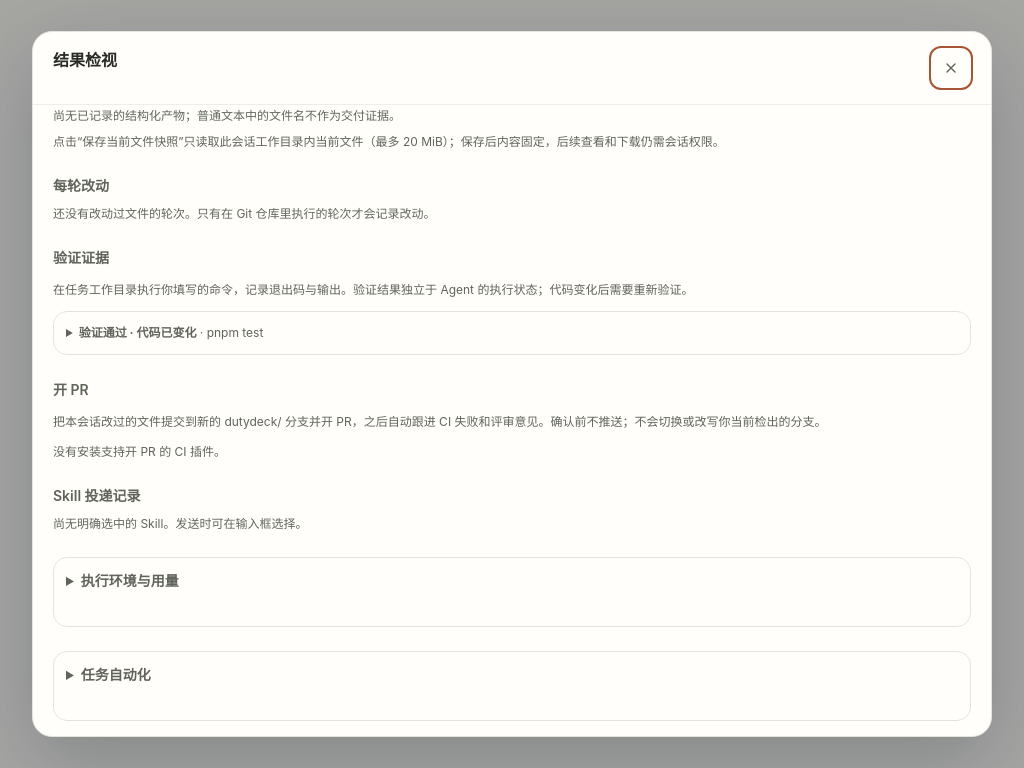
Test case: work item delivery panel › displays blockers when workspace cannot be safely cleaned
This screenshot has width=1024, height=768.
(page scrolled)
Click the heading "执行环境与用量" at (130, 580), box x1=81 y1=572 x2=179 y2=589
(page scrolled)
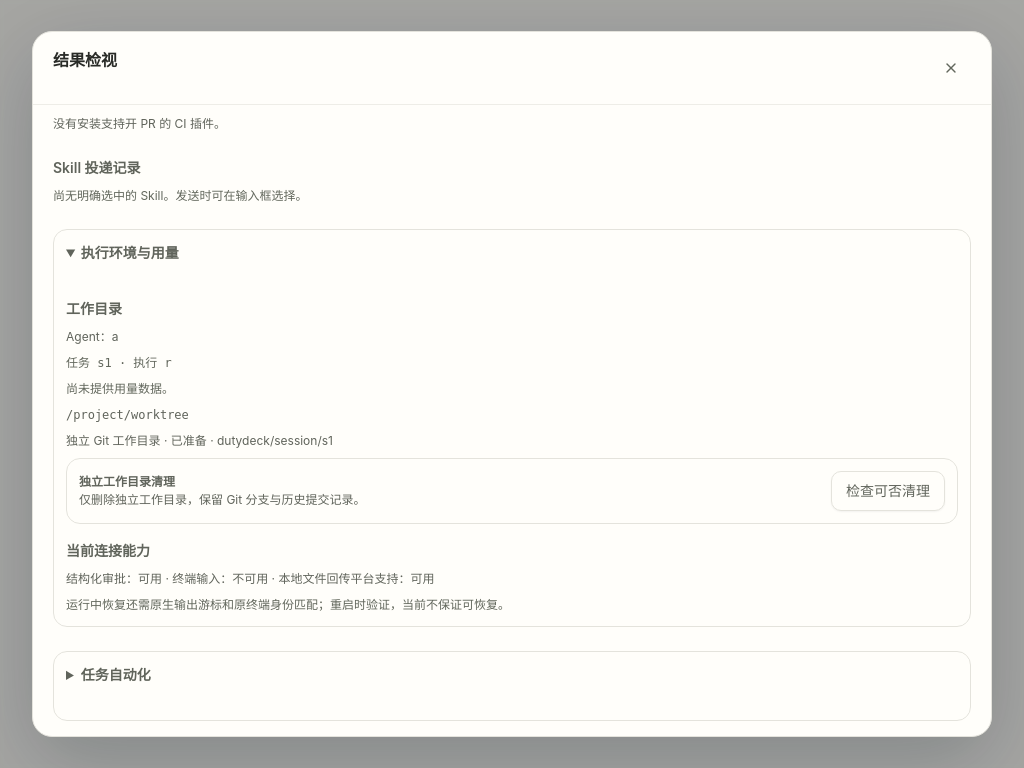
Click the button "检查可否清理" at (888, 491), box x1=831 y1=471 x2=945 y2=511
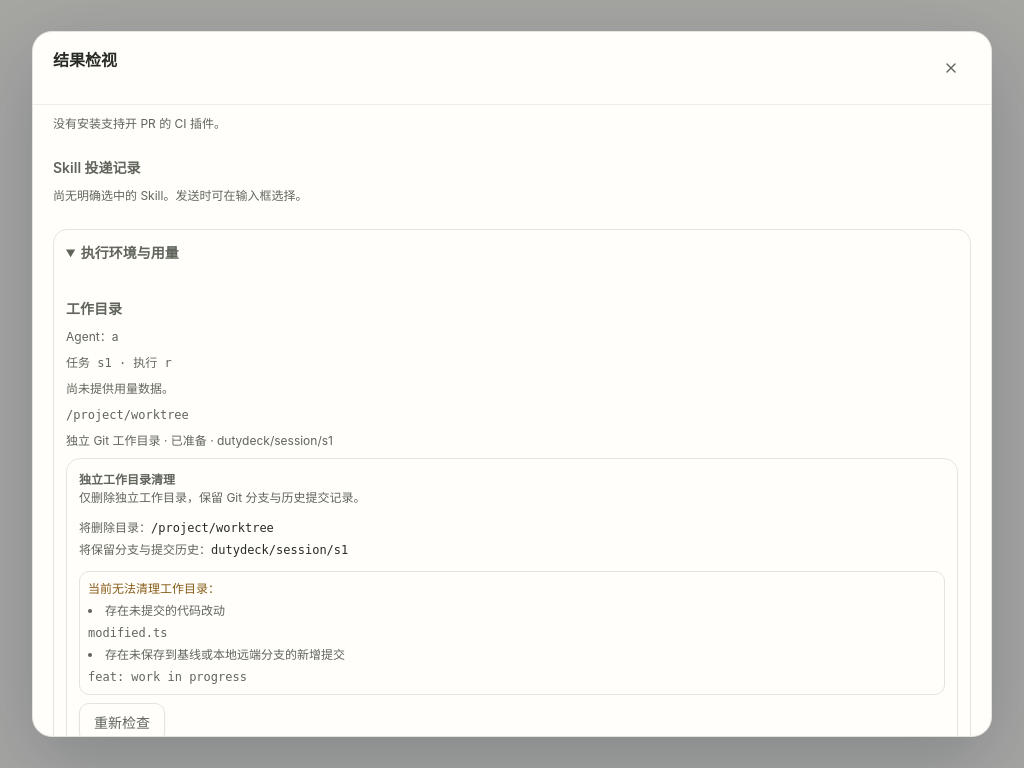
Now the text "当前无法清理工作目录：" is shown, box x1=88 y1=581 x2=220 y2=596
Now the text "存在未提交的代码改动" is shown, box x1=105 y1=603 x2=225 y2=618
Now the text "modified.ts" is shown, box x1=88 y1=626 x2=168 y2=640
